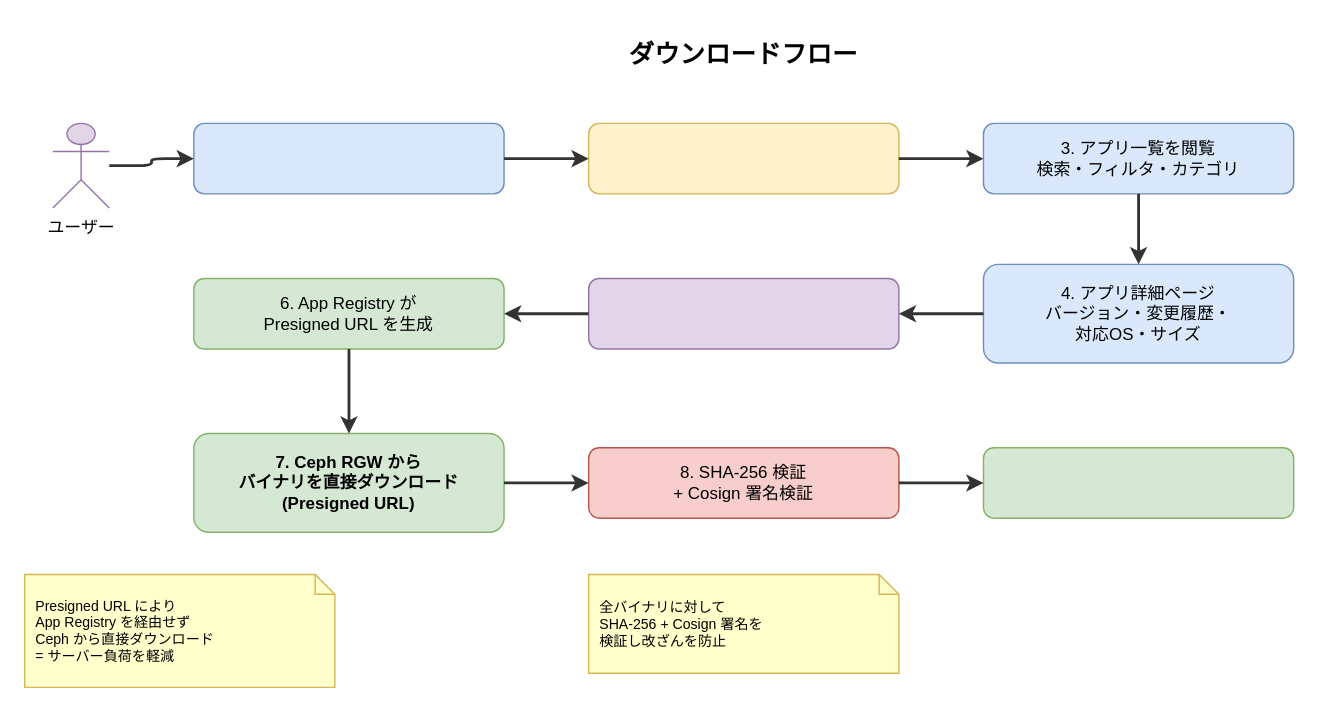
Some shapes in this 1318 by 712 pixel diagram are drawn without their labels. Each missing label, with the box of its shape:
1. App Catalog にアクセス (ブラウザ): (192, 122, 504, 194)
2. Keycloak で認証 (OIDC / SSO): (587, 122, 899, 194)
5. ダウンロードボタン押下 OS 自動検出: (587, 277, 899, 349)
9. インストール完了 自動更新クライアント起動: (982, 446, 1294, 518)
